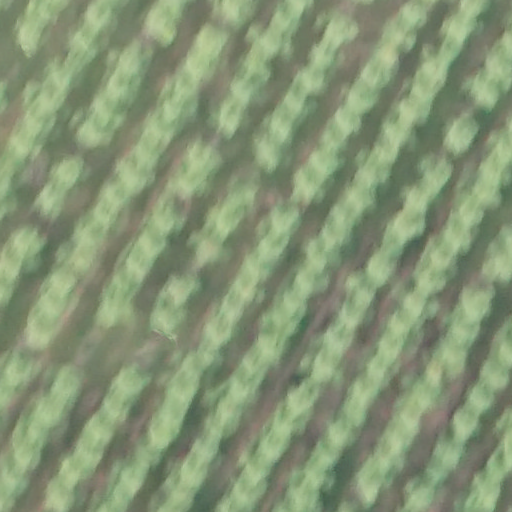eucalipto: (156, 77, 203, 126), (115, 145, 157, 192), (22, 78, 60, 124), (185, 137, 226, 178), (189, 230, 233, 268), (305, 143, 344, 185), (151, 190, 187, 235), (321, 207, 357, 252), (360, 48, 401, 87), (207, 391, 241, 438), (76, 111, 118, 149), (254, 130, 290, 174), (147, 104, 187, 143), (163, 270, 204, 308), (149, 302, 193, 337), (90, 90, 129, 129), (4, 224, 42, 264), (227, 266, 266, 304), (211, 198, 247, 239), (26, 297, 64, 335), (443, 116, 481, 154), (291, 166, 326, 207), (402, 286, 438, 325), (380, 19, 421, 53), (133, 136, 171, 172), (343, 77, 379, 115), (454, 286, 492, 322), (143, 7, 178, 46), (243, 44, 278, 83), (360, 145, 395, 184), (376, 118, 416, 152), (266, 305, 306, 339), (322, 14, 364, 46), (8, 127, 47, 161), (305, 41, 345, 74), (290, 267, 332, 298), (426, 239, 462, 275), (31, 181, 68, 216), (186, 44, 221, 81), (378, 420, 415, 455), (273, 289, 311, 323), (440, 216, 474, 254), (225, 70, 258, 109), (290, 67, 330, 99), (469, 70, 501, 110), (346, 270, 377, 311), (118, 40, 153, 76), (194, 22, 230, 57), (38, 283, 73, 319), (204, 312, 239, 348), (251, 329, 287, 364), (228, 370, 264, 405), (19, 111, 56, 145), (143, 413, 180, 447), (400, 89, 433, 127), (85, 2, 121, 36), (49, 159, 87, 191), (242, 252, 280, 284), (338, 184, 377, 215), (106, 69, 141, 103), (245, 445, 280, 479), (89, 408, 125, 441), (257, 231, 293, 264), (415, 259, 448, 295), (277, 398, 309, 435), (217, 98, 247, 137), (322, 321, 356, 355), (267, 105, 300, 140), (136, 432, 168, 468), (50, 61, 87, 92), (175, 59, 206, 96), (47, 263, 81, 296), (114, 364, 148, 397), (270, 202, 304, 235), (471, 179, 504, 213), (347, 372, 381, 405), (177, 167, 212, 199), (118, 457, 150, 492), (312, 348, 344, 383), (285, 377, 317, 412), (16, 21, 53, 51), (213, 1, 255, 27), (76, 425, 111, 456), (317, 127, 352, 158), (261, 422, 292, 457), (412, 63, 439, 103), (256, 24, 288, 57), (391, 400, 423, 433), (102, 174, 133, 208), (300, 239, 331, 273), (238, 349, 272, 380), (235, 471, 269, 502), (72, 32, 109, 60), (180, 455, 211, 488), (395, 1, 429, 31), (367, 356, 401, 386), (402, 481, 436, 511), (225, 177, 260, 206), (166, 374, 201, 403), (95, 194, 123, 230), (281, 91, 317, 119), (124, 247, 155, 279), (325, 417, 356, 449), (446, 317, 477, 349), (102, 387, 135, 417), (394, 210, 427, 240), (411, 377, 440, 411), (441, 16, 476, 44), (456, 194, 484, 229), (1, 245, 26, 284), (219, 289, 250, 320), (191, 432, 221, 464), (374, 327, 404, 359), (177, 346, 210, 375), (310, 443, 344, 471), (367, 253, 397, 284), (335, 300, 367, 329), (434, 438, 463, 470), (466, 378, 495, 410), (23, 1, 69, 21), (481, 156, 511, 186), (479, 356, 508, 387), (39, 77, 67, 109), (448, 406, 476, 438), (422, 156, 447, 191), (83, 218, 111, 249), (140, 227, 169, 256), (164, 484, 197, 509), (341, 397, 368, 427), (335, 109, 362, 137), (403, 189, 431, 216), (110, 478, 136, 505), (388, 311, 415, 337), (381, 233, 406, 261), (423, 463, 450, 485), (494, 137, 512, 167)
